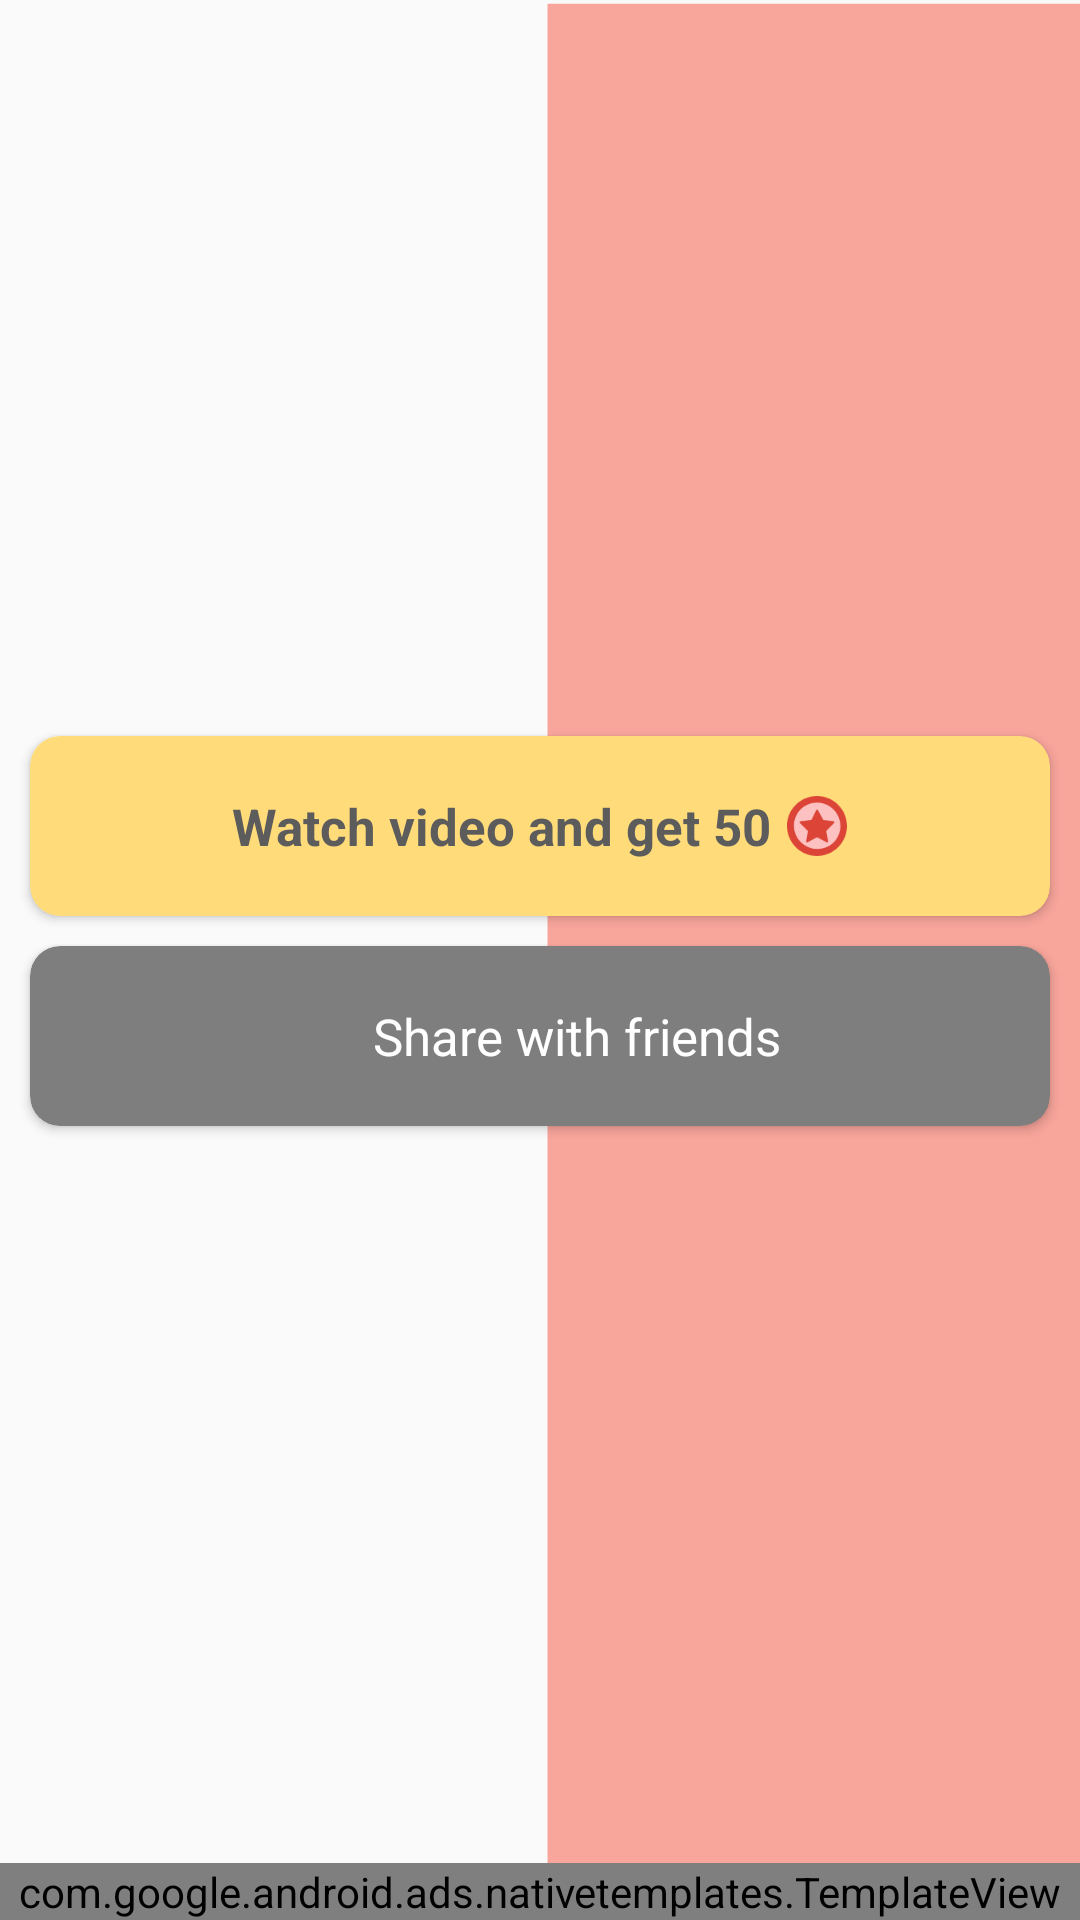

Named icons in this screenshot (1080w x 1920h) and their centers, (x,y):
token: (817,826)
